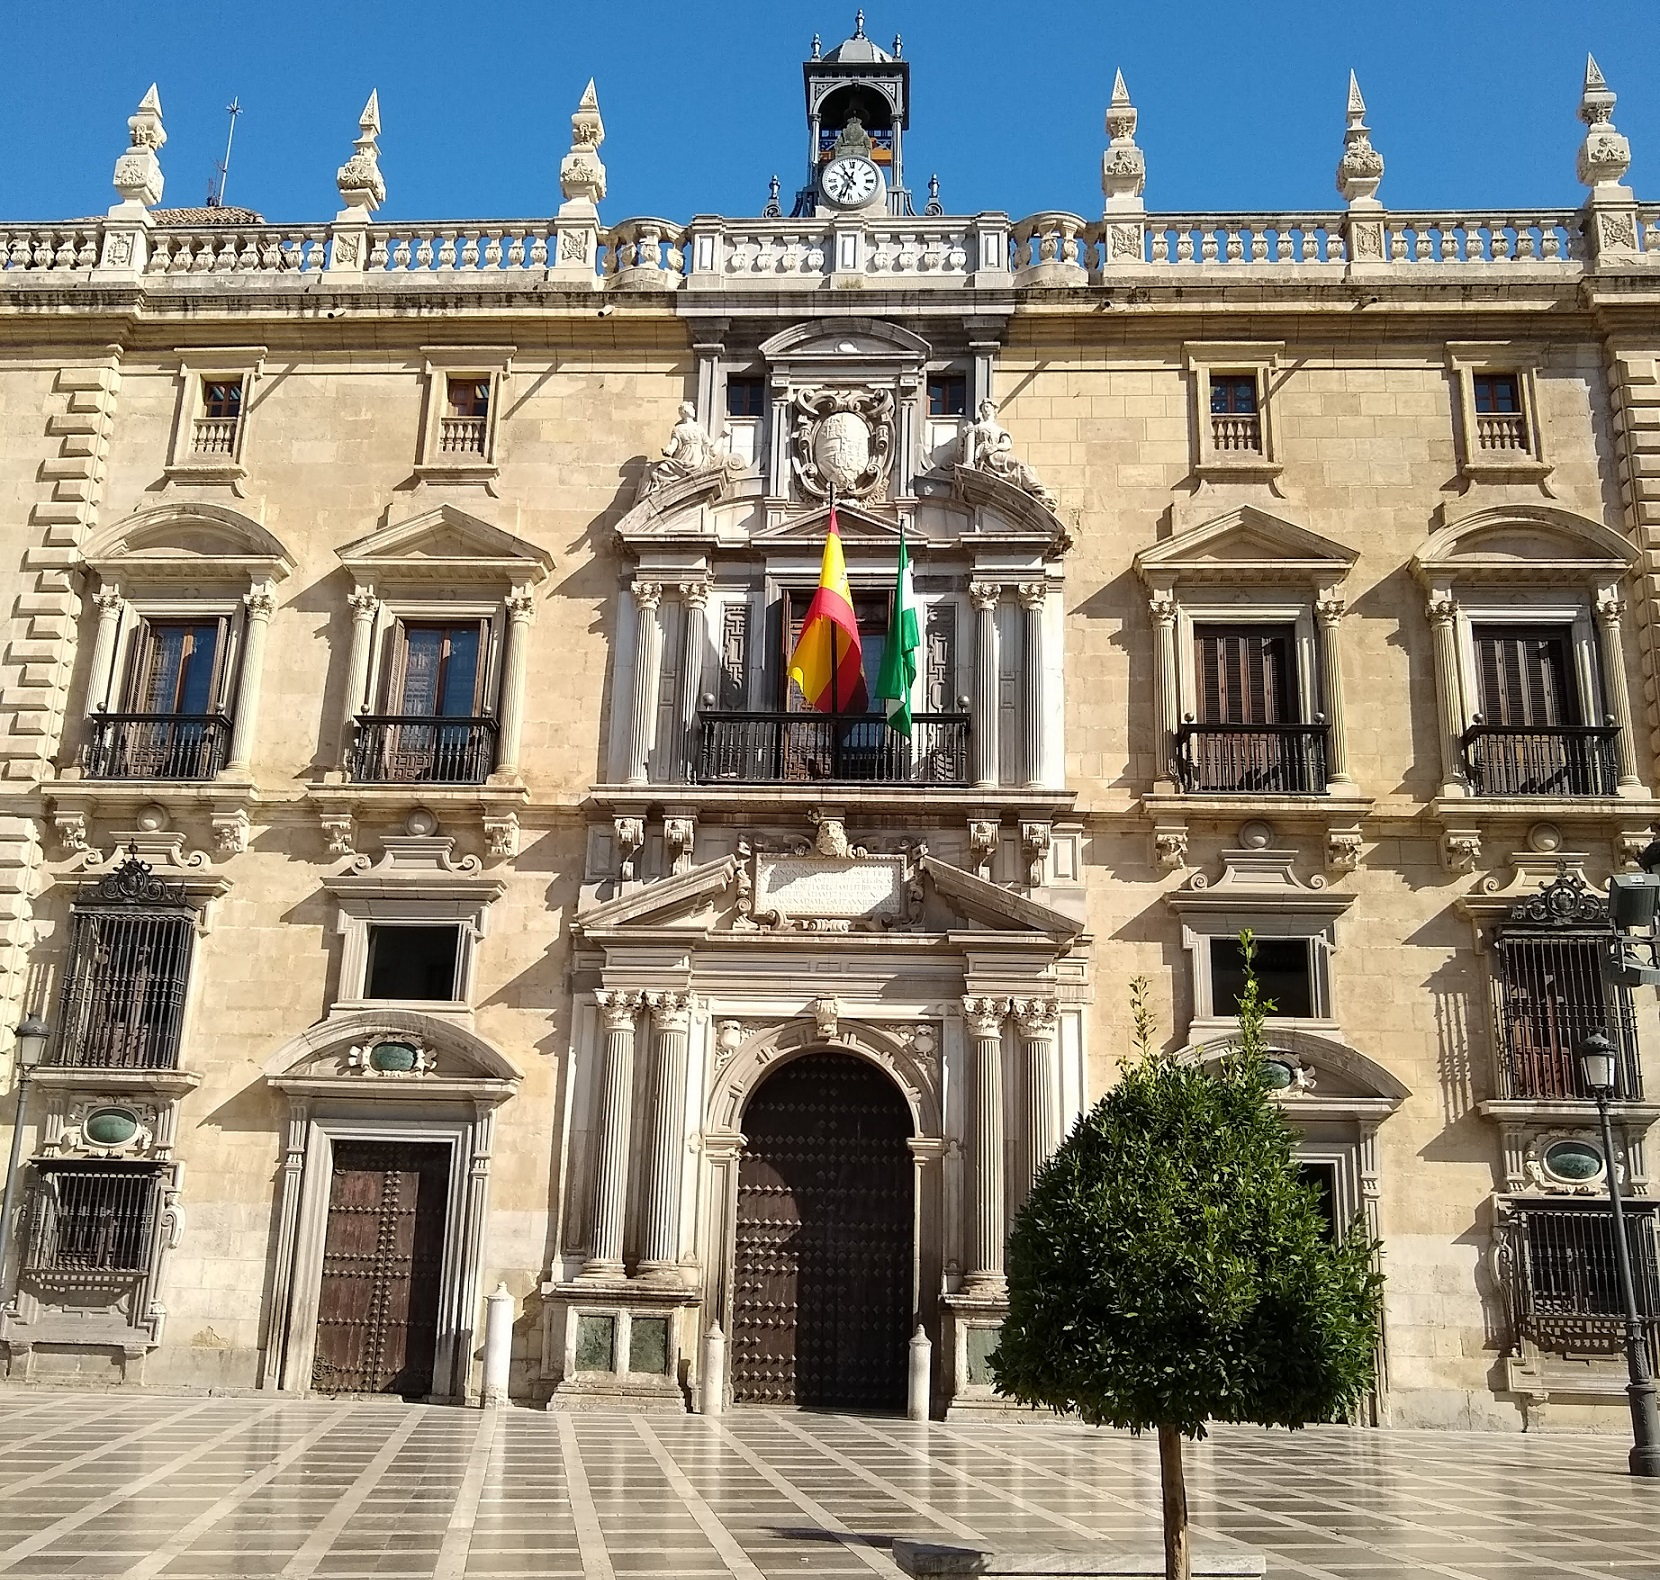arco-medio-punto: (717, 1038, 937, 1172)
fronton: (328, 499, 554, 582), (1126, 504, 1365, 578), (746, 499, 932, 554)
fronton-curvo: (255, 1005, 525, 1100), (1152, 1027, 1417, 1119), (1405, 501, 1645, 577), (74, 498, 293, 580), (754, 316, 937, 366)
fronton-partido: (565, 846, 1092, 957), (614, 457, 1080, 554)
vano-adintelado: (282, 1115, 474, 1398), (1423, 600, 1647, 797), (1143, 593, 1344, 793), (331, 591, 531, 786), (76, 590, 273, 780)
